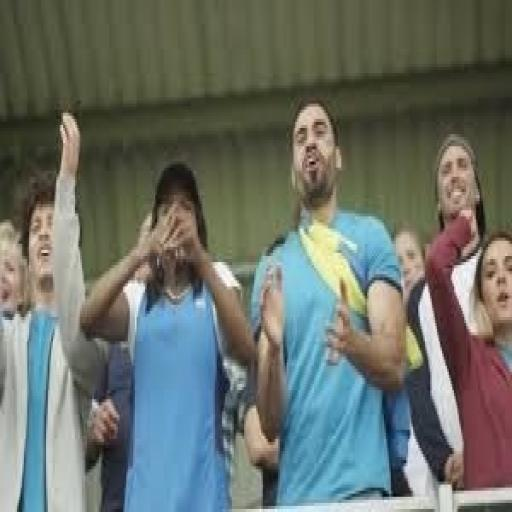clapping: (249, 91, 411, 506), (0, 79, 134, 512)
